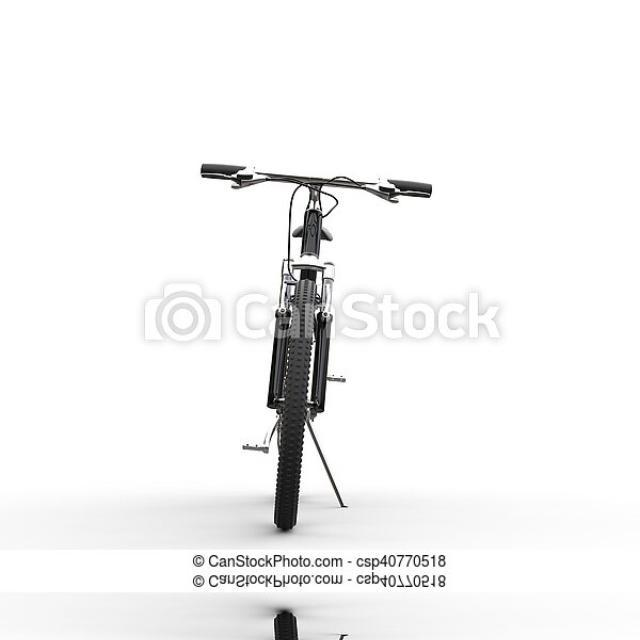obstacle: (192, 123, 424, 547), (191, 594, 424, 640), (191, 0, 424, 15)
